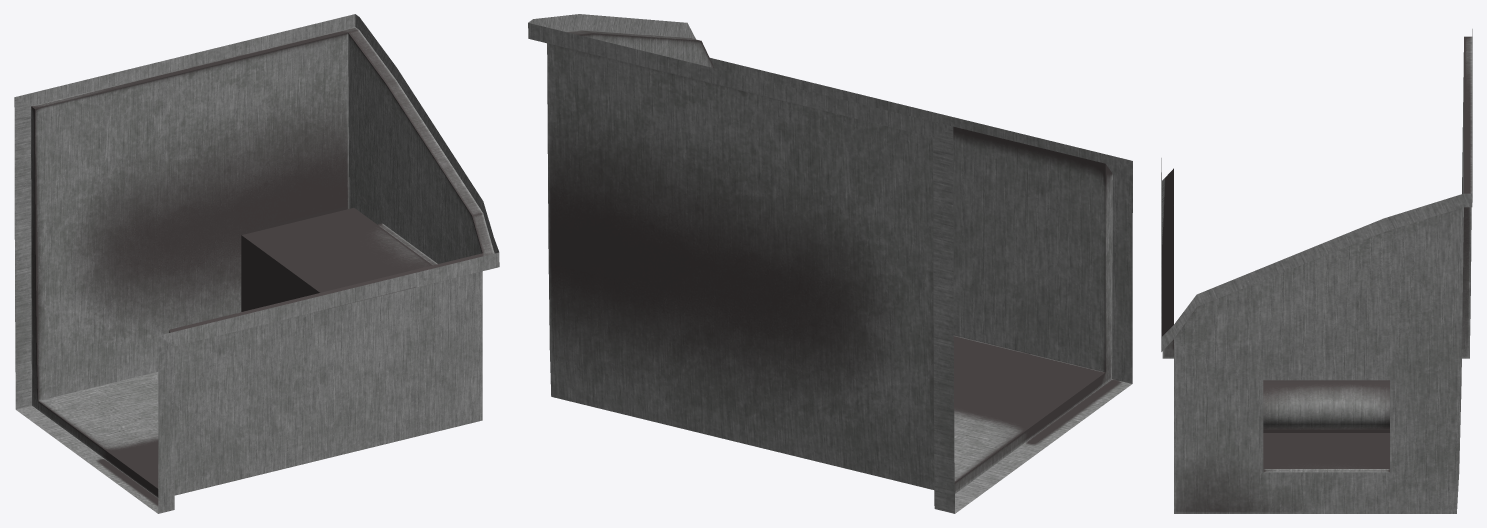
File: SM_Can2.fbx
3 views of the same model, side by side, from view 1: azimuth 30°, elevation 25°; view 2: azimuth 150°, elevation 25°; view 3: azimuth 270°, elevation 25° (orthographic). The views are drawn at different scales.
Visible parts, largest first — view 1: SM_Can2; view 2: SM_Can2; view 3: SM_Can2.
Part boxes in pixels (<box>): SM_Can2: <box>14,14,499,513</box>; SM_Can2: <box>528,14,1132,513</box>; SM_Can2: <box>1161,29,1472,513</box>.
Bounding box in the file's own units: 74.48 × 54.59 × 65.04.
Materials: 1 (1 with a texture image).
